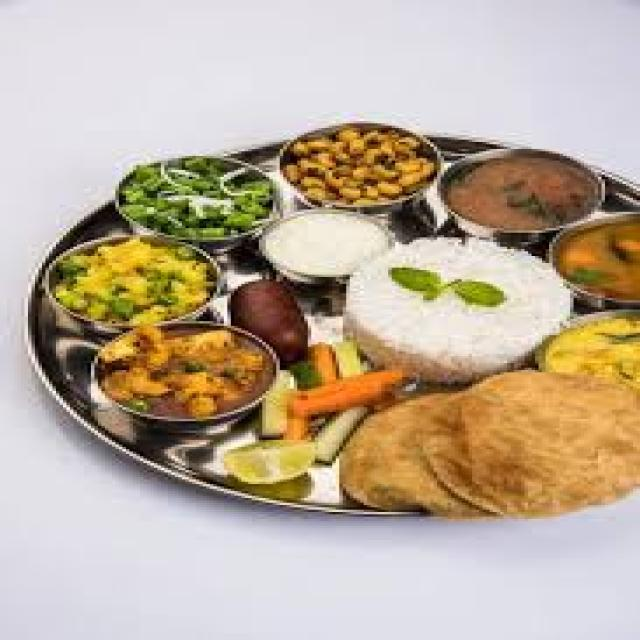curd: (256, 206, 400, 280)
rice: (340, 231, 566, 368)
roti: (338, 373, 626, 514)
sambar-rasam: (433, 144, 617, 239), (220, 275, 329, 352), (550, 211, 640, 301)
sweet: (225, 278, 324, 351)
veg-fry: (73, 313, 280, 428)
